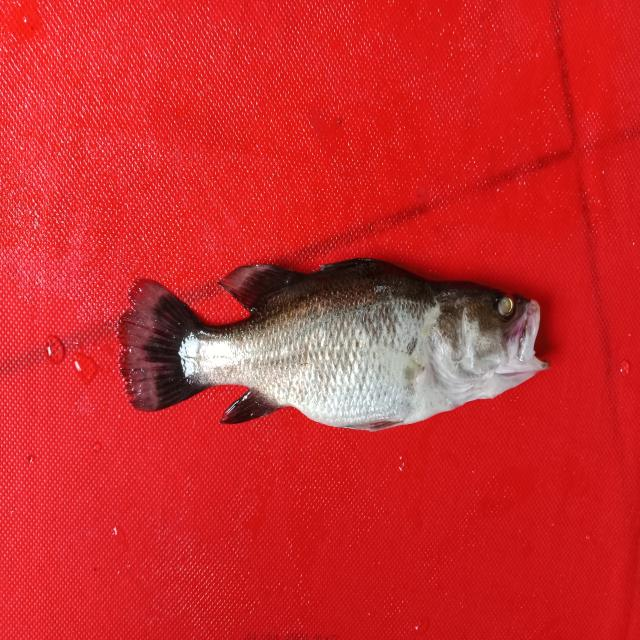ikan: (99, 209, 557, 450)
